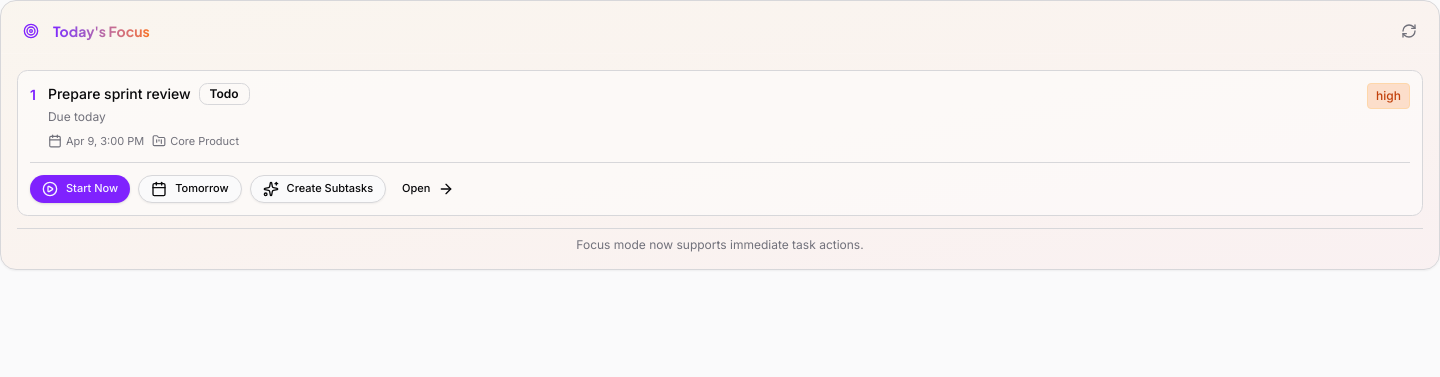
SmartFocusMode › renders focus tasks and performs start, reschedule, and subtask actions
Expected: the text "Prepare sprint review" is shown, [48, 84, 190, 104]
Click the button "Start Now" at x=80, y=188, box [30, 174, 130, 202]
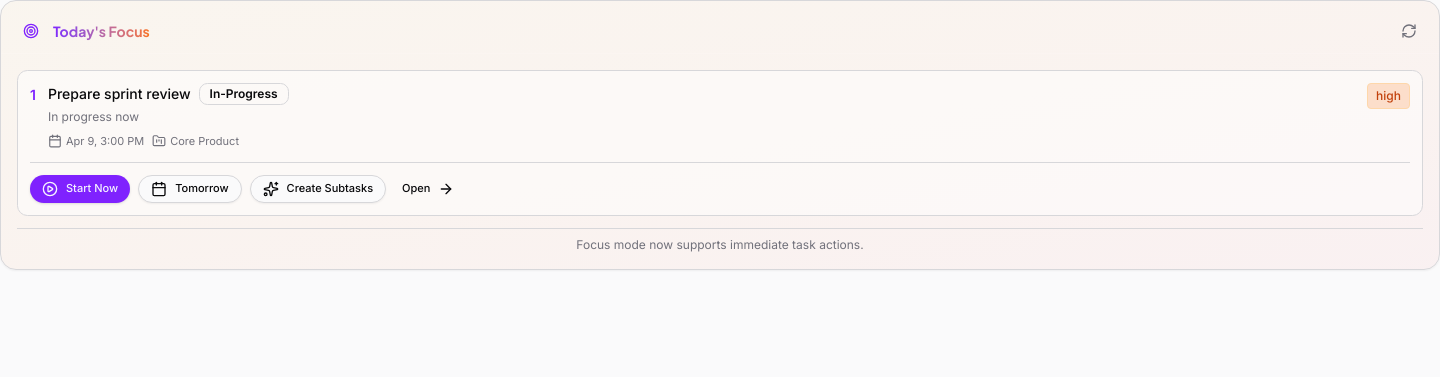
Expected: the text "In progress now" is shown, [48, 109, 139, 124]
Click the button "Tomorrow" at x=190, y=188, box [138, 174, 242, 202]
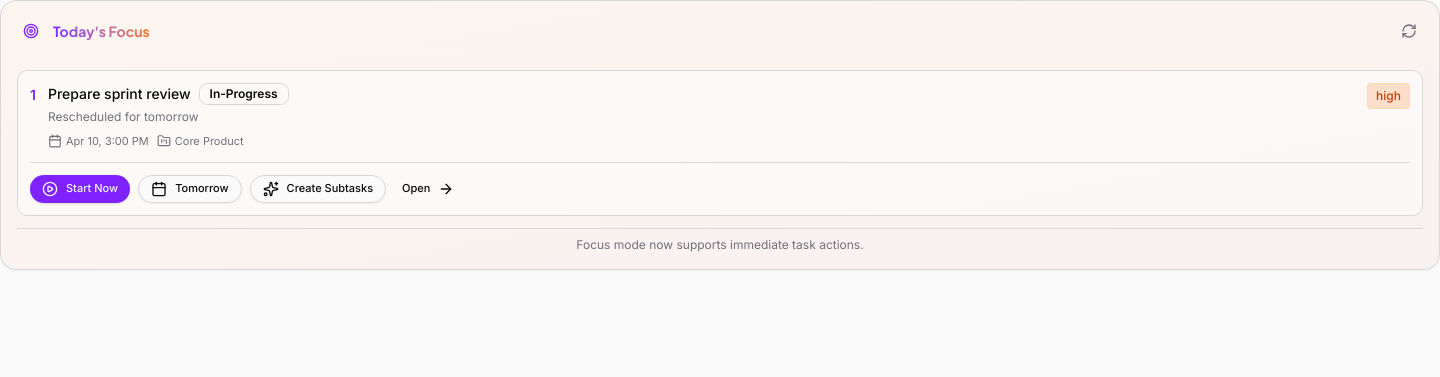
Expected: the text "Rescheduled for tomorrow" is shown, [48, 109, 198, 124]
Click the button "Create Subtasks" at x=318, y=188, box [250, 174, 386, 202]
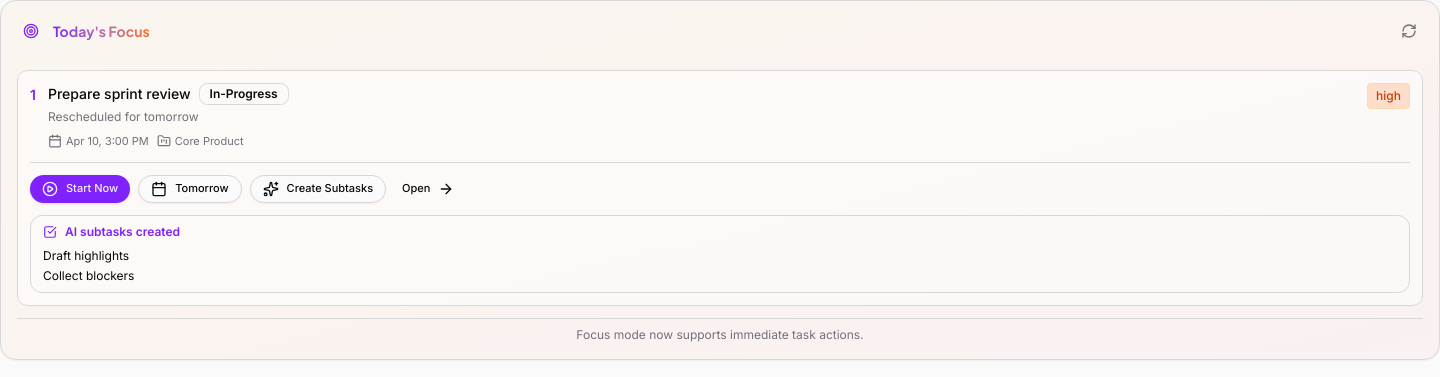
Expected: the text "AI subtasks created" is shown, [43, 224, 180, 238]
Expected: the list item "Draft highlights" is shown, [43, 248, 129, 262]
Expected: the list item "Collect blockers" is shown, [43, 268, 134, 282]
